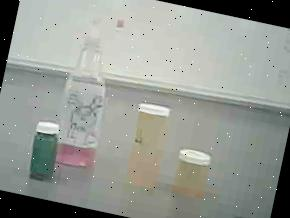Bottle A: (118, 90, 182, 198)
Bottle B: (164, 130, 224, 210)
Bottle C: (20, 114, 68, 184)
hazard: (48, 6, 140, 176)
